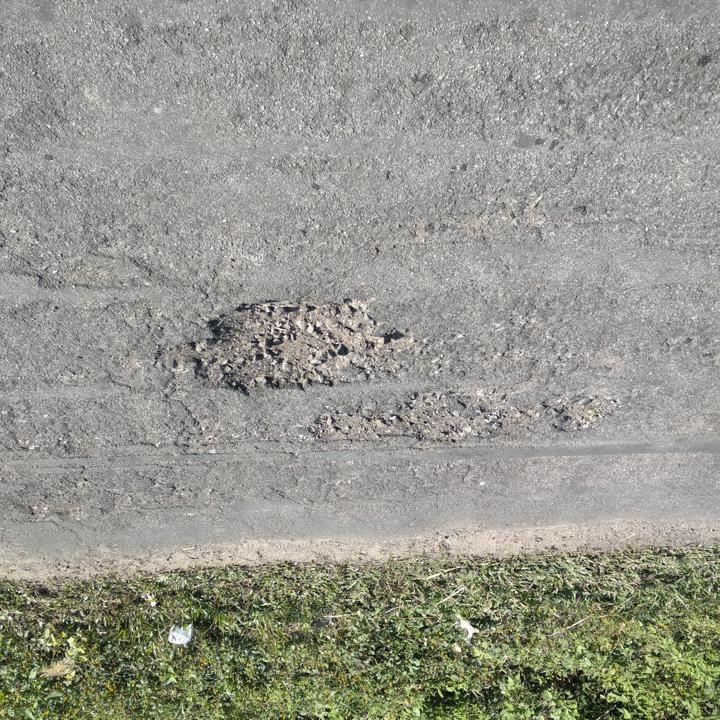pothole: (178, 294, 395, 397), (302, 388, 523, 447), (536, 386, 626, 435)
